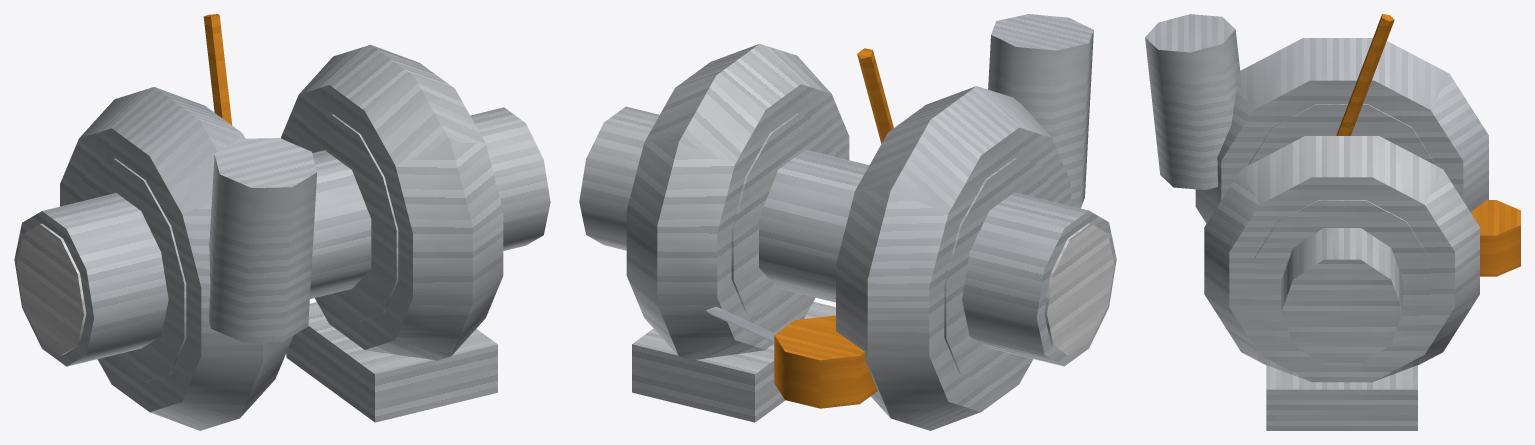
The model's file is turbo_n3.glb.
3 views of the same model, side by side, from view 1: azimuth 30°, elevation 25°; view 2: azimuth 150°, elevation 25°; view 3: azimuth 270°, elevation 25° (orthographic). The views are drawn at different scales.
Parts seen in each view (by area): view 1: turbo_n3; view 2: turbo_n3; view 3: turbo_n3.
Boxes of the visible parts, bbox=[...] form: turbo_n3: bbox=[14, 14, 550, 430]; turbo_n3: bbox=[579, 14, 1116, 430]; turbo_n3: bbox=[1145, 14, 1520, 430].
Bounding box in the file's own units: 0.3752 × 0.2931 × 0.307.
Materials: 2 (2 with a texture image).
